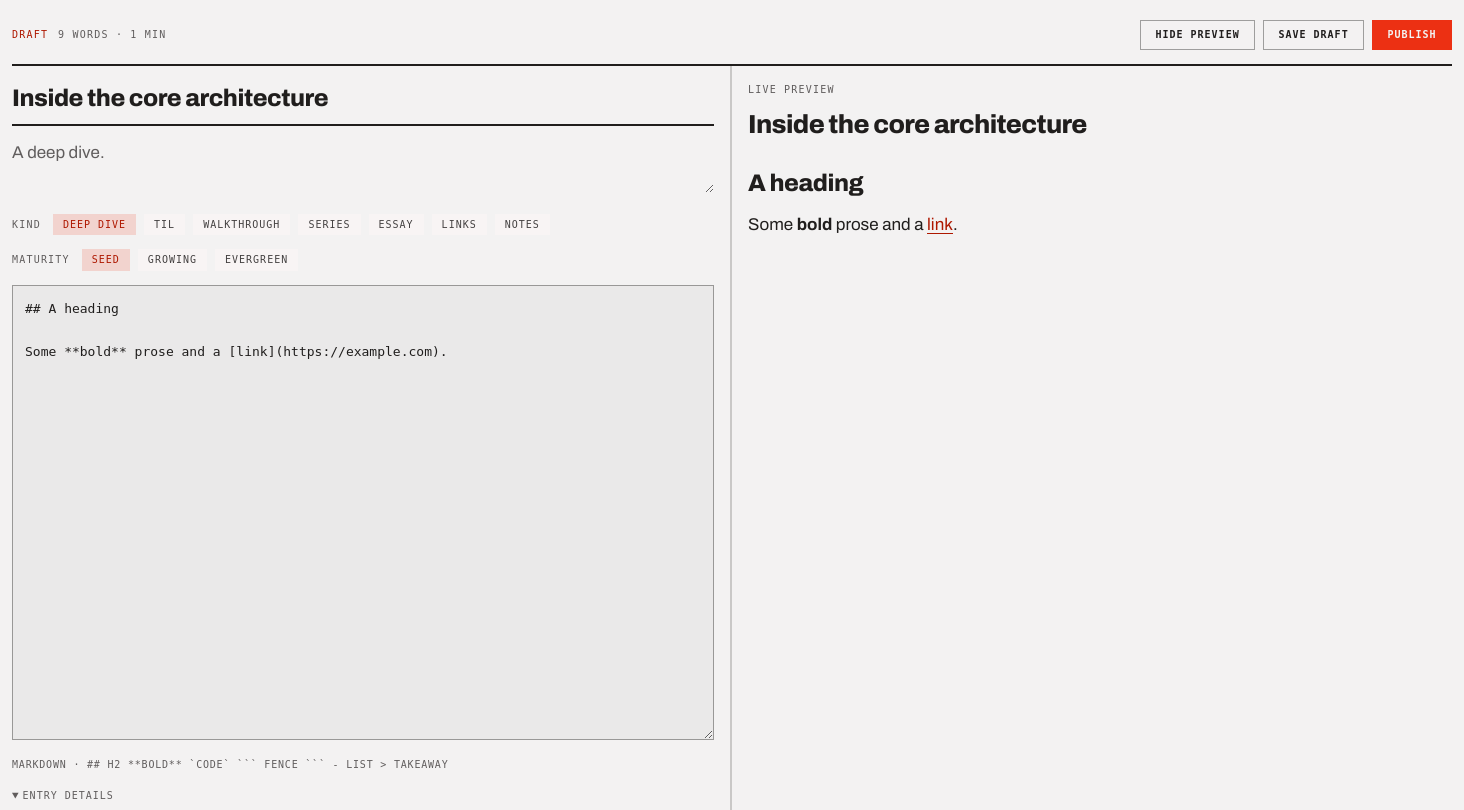
Test: PostEditor preview › tracks the source as it is typed
Replace the text in the text box named "Body" with "rewritten" at (363, 512), box x1=12 y1=285 x2=714 y2=740
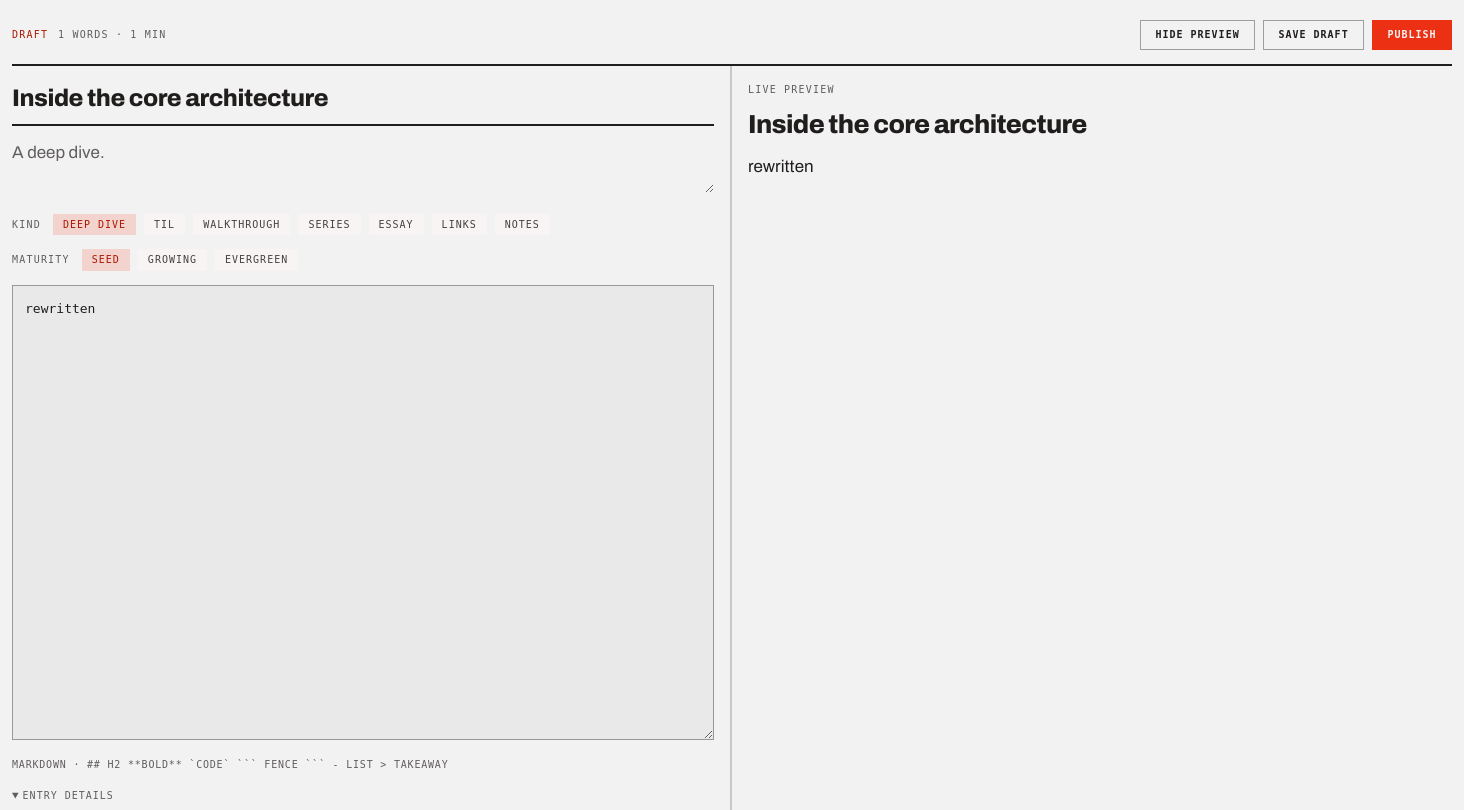
Expected: the text "rewritten" is shown, x1=748 y1=157 x2=814 y2=176
